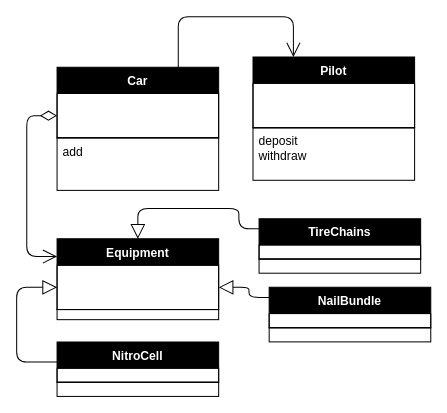
The diagram is 447 pixels wide and 413 high, and some of its shapes have lost their labels. The shapes that lost their labels are listed below. From the top down, each one's centre as x and y in pixels, then its label:
At point (137, 115): "pilot equipments".
At point (333, 105): "name budget".
At point (137, 287): "name price".
